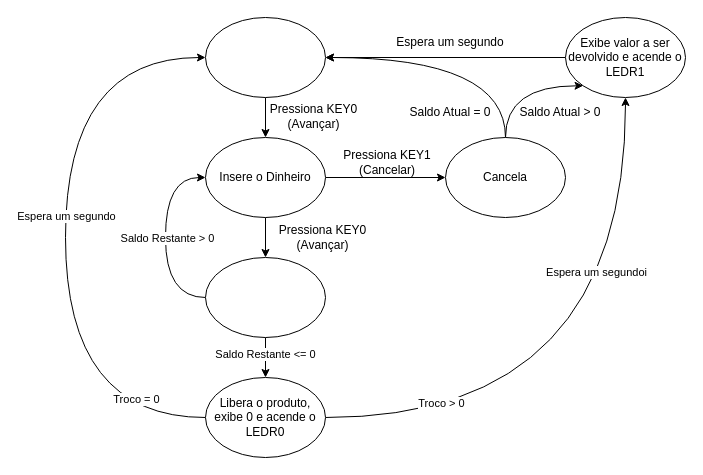
This 703x475 diagram has some shape labels left out. Here are the shapes that lost their labels. From the top down, the centre of each, then its label:
pixel 265 57: Escolhe Produto
pixel 265 297: Atualiza Saldo Restante
